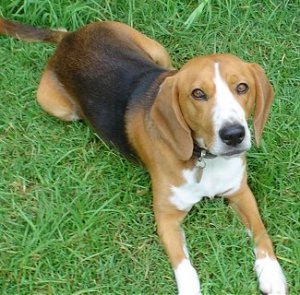dog: (1, 8, 299, 290)
